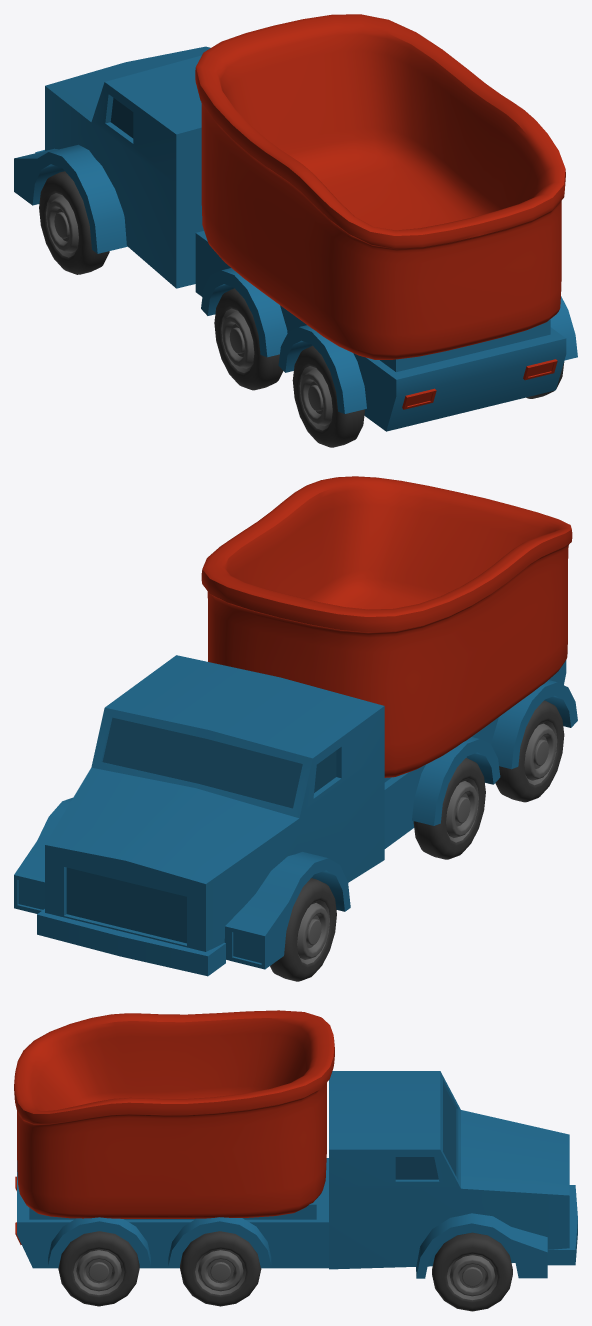
File: toy41.fbx
3 renders of one model, top to bottom at view 1: azimuth 30°, elevation 25°; view 2: azimuth 150°, elevation 25°; view 3: azimuth 270°, elevation 25°, orthographic. The views are drawn at different scales.
Parts seen in each view (by area): view 1: Cube.045, Cylinder.035, Cylinder.034, Cylinder.040, Cylinder.039; view 2: Cylinder.035, Cube.045, Cylinder.034, Cylinder.039, Cylinder.040; view 3: Cube.045, Cylinder.035, Cylinder.034, Cylinder.040, Cylinder.039.
Boxes of the visible parts, x1,y1,x2,y2 form: Cube.045: [195, 14, 565, 359]; Cylinder.035: [14, 46, 577, 431]; Cylinder.034: [39, 171, 109, 274]; Cylinder.040: [292, 345, 564, 447]; Cylinder.039: [214, 288, 283, 390]; Cylinder.035: [14, 655, 577, 976]; Cube.045: [201, 476, 572, 777]; Cylinder.034: [270, 878, 336, 981]; Cylinder.039: [413, 758, 485, 859]; Cylinder.040: [495, 700, 564, 802]; Cube.045: [14, 1010, 334, 1218]; Cylinder.035: [15, 1071, 577, 1278]; Cylinder.034: [432, 1232, 512, 1311]; Cylinder.040: [58, 1231, 139, 1306]; Cylinder.039: [180, 1231, 261, 1306].
Bounding box in the file's own units: 0.4325 × 1.06 × 0.4549.
